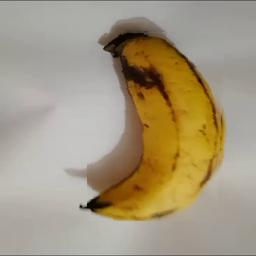Banana Semifresh: (87, 29, 225, 221)
